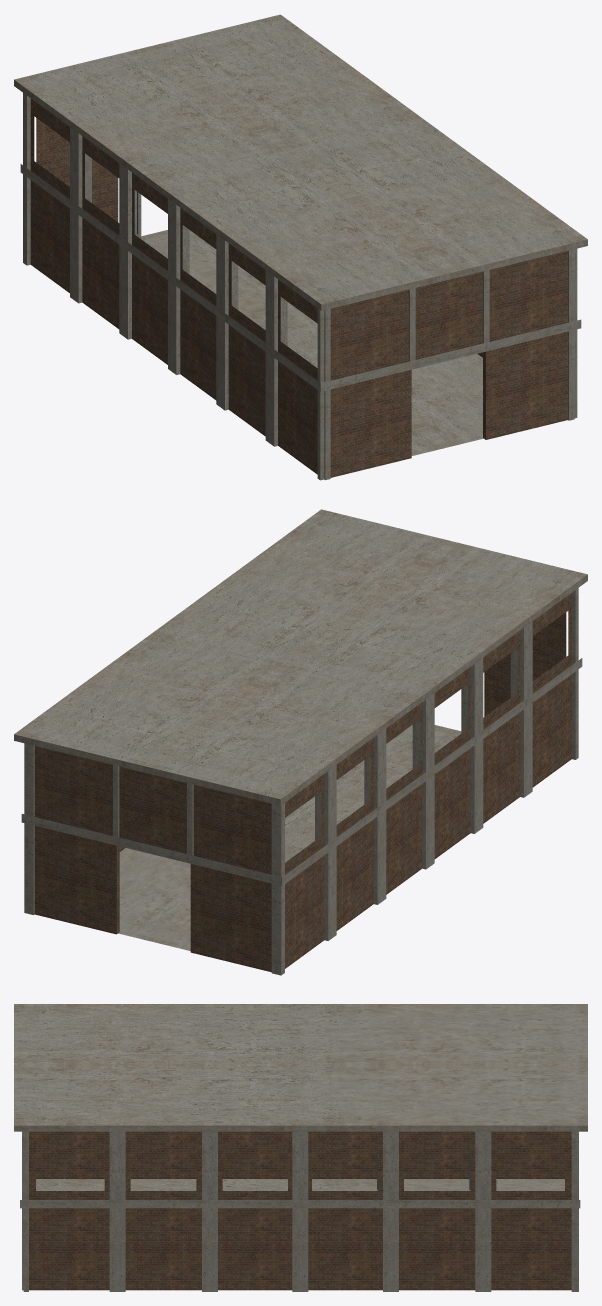
Rendered from Building_Fdc06_2048_lod2.glb.
3 renders of one model, top to bottom at view 1: azimuth 30°, elevation 25°; view 2: azimuth 150°, elevation 25°; view 3: azimuth 270°, elevation 25°, orthographic. The views are drawn at different scales.
Parts seen in each view (by area): view 1: xiutz_fdc_06_lod2; view 2: xiutz_fdc_06_lod2; view 3: xiutz_fdc_06_lod2.
Boxes of the visible parts, x1=… form: xiutz_fdc_06_lod2: x1=14, y1=14, x2=587, y2=480; xiutz_fdc_06_lod2: x1=14, y1=509, x2=587, y2=975; xiutz_fdc_06_lod2: x1=14, y1=1004, x2=587, y2=1291.
Bounding box in the file's own units: 12.94 × 8.38 × 25.83.
1 material, 1 textured.
